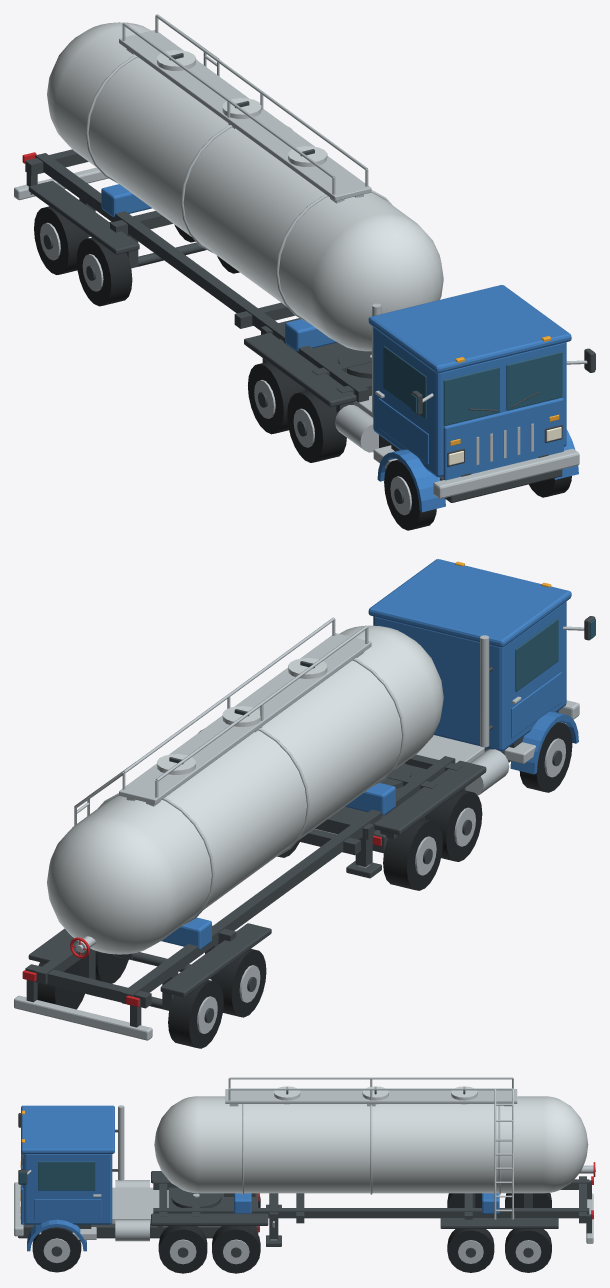
The model's file is semi_tanker_combo.glb.
The picture shows the model from 3 angles, top to bottom: view 1: azimuth 30°, elevation 25°; view 2: azimuth 150°, elevation 25°; view 3: azimuth 270°, elevation 25°; orthographic projection. The views are drawn at different scales.
Parts seen in each view (by area): view 1: Tanker main round barrel, Tanker rounded end cap, Tractor cab roof, Tanker upper walkway, Tractor cab, Tractor front fascia, Trailer main chassis rail, Tandem rear mudguard, Tractor windshield, Tractor windshield.001, Tractor front bumper, Trailer wheel mudguard (+17 smaller); view 2: Tanker main round barrel, Tanker rounded end cap.001, Tractor cab roof, Tractor cab, Tanker upper walkway, Trailer main chassis rail, Tandem rear mudguard, Tractor drive tire.002, Trailer wheel mudguard, Trailer tandem tire.002, Tractor drive tire, Trailer rear underride bar (+19 smaller); view 3: Tanker main round barrel, Tractor cab roof, Trailer main chassis rail.001, Tanker rounded end cap, Tanker rounded end cap.001, Tanker upper walkway, Tractor cab, Cab door side glass.001, Chassis access catwalk, Tractor drive tire.001, Tractor drive tire.003, Tandem rear mudguard.001 (+30 smaller).
Boxes of the visible parts, x1,y1,x2,y2 form: Tanker main round barrel: (55,26,415,336); Tanker rounded end cap: (310,213,443,351); Tractor cab roof: (368,285,571,373); Tanker upper walkway: (119,30,371,201); Tractor cab: (373,327,566,477); Tractor front fascia: (443,398,563,480); Trailer main chassis rail: (35,153,368,402); Tandem rear mudguard: (244,333,356,407); Tractor windshield: (443,367,499,425); Tractor windshield.001: (506,351,562,410); Tractor front bumper: (433,448,579,498); Trailer wheel mudguard: (28,181,139,254); Tanker main round barrel: (75,629,435,939); Tanker rounded end cap.001: (47,816,179,954); Tractor cab roof: (368,559,571,647); Tractor cab: (373,601,566,751); Tanker upper walkway: (119,633,371,804); Trailer main chassis rail: (122,756,455,1004); Tandem rear mudguard: (373,760,486,834); Tractor drive tire.002: (383,818,442,890); Trailer wheel mudguard: (160,923,271,997); Trailer tandem tire.002: (168,980,223,1048); Tractor drive tire: (424,789,482,861); Trailer rear underride bar: (14,995,152,1040); Tanker main round barrel: (198,1096,543,1193); Tractor cab roof: (21,1105,114,1153); Trailer main chassis rail.001: (153,1208,589,1218); Tanker rounded end cap: (154,1096,198,1193); Tanker rounded end cap.001: (544,1096,588,1193); Tanker upper walkway: (225,1089,517,1103); Tractor cab: (23,1154,112,1224); Cab door side glass.001: (38,1161,95,1190); Chassis access catwalk: (112,1187,168,1223); Tractor drive tire.001: (158,1226,207,1273); Tractor drive tire.003: (212,1226,260,1273); Tandem rear mudguard.001: (151,1213,268,1225).
Size of the model in its own units: 3.17 by 4.1 by 13.14.
